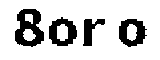8: (11, 6, 45, 48)
o: (47, 15, 80, 48), (116, 16, 148, 49)
r: (81, 13, 107, 50)
